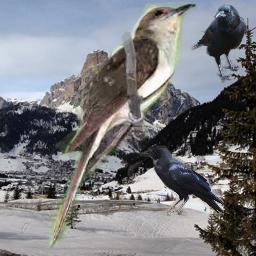Crow: (140, 145, 224, 216), (186, 1, 247, 84)
Cuckoo: (49, 2, 196, 249)
